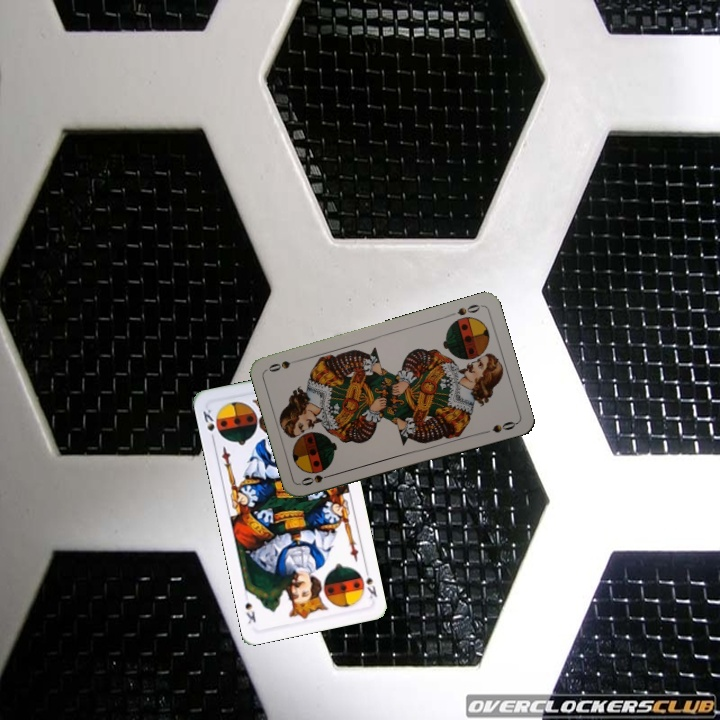SK: (361, 564, 380, 602), (199, 405, 217, 445)
SO: (297, 469, 337, 488), (453, 300, 484, 318)
